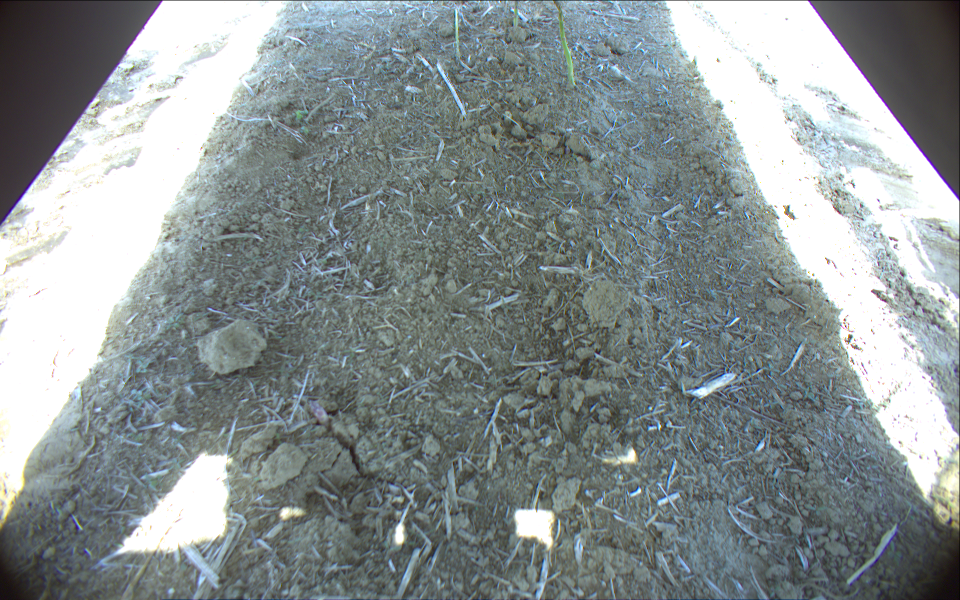aspa: (553, 1, 576, 87), (453, 9, 460, 59), (511, 1, 520, 28)
